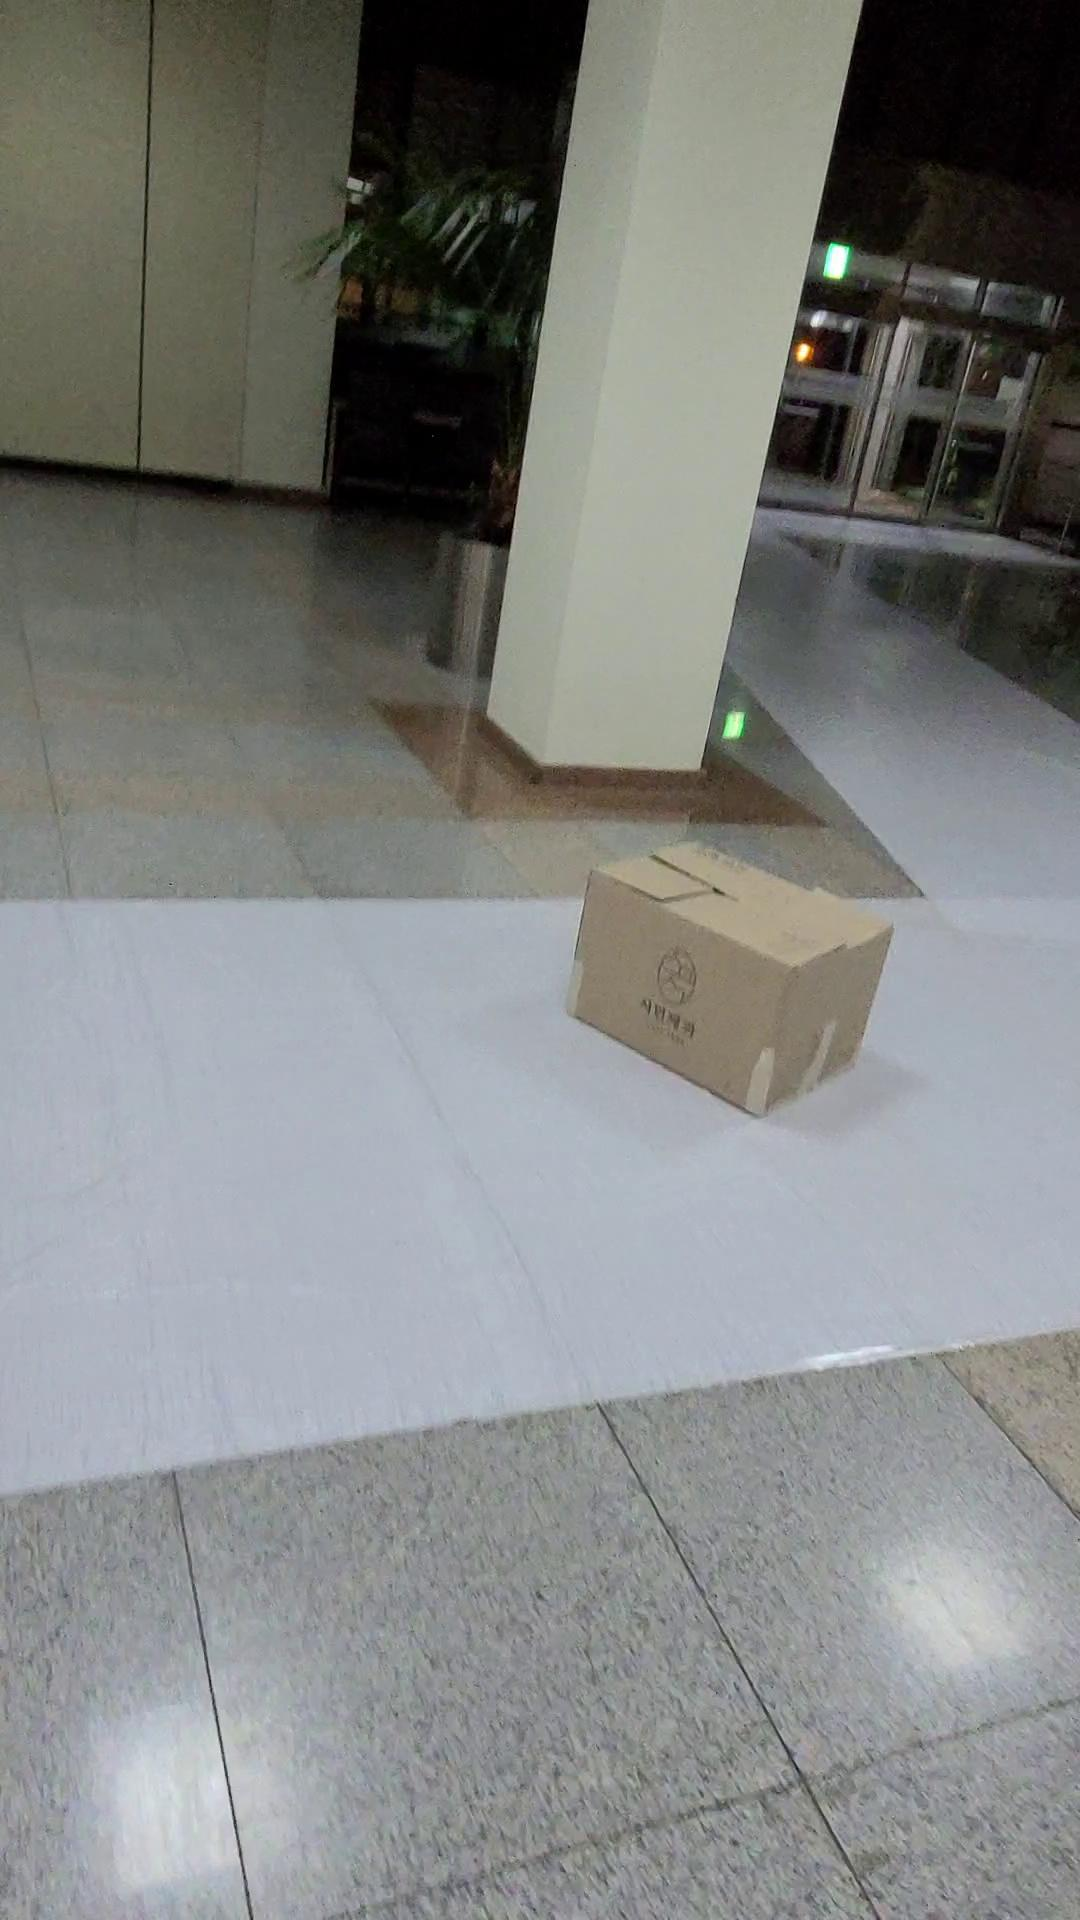Box: (508, 804, 938, 1142)
